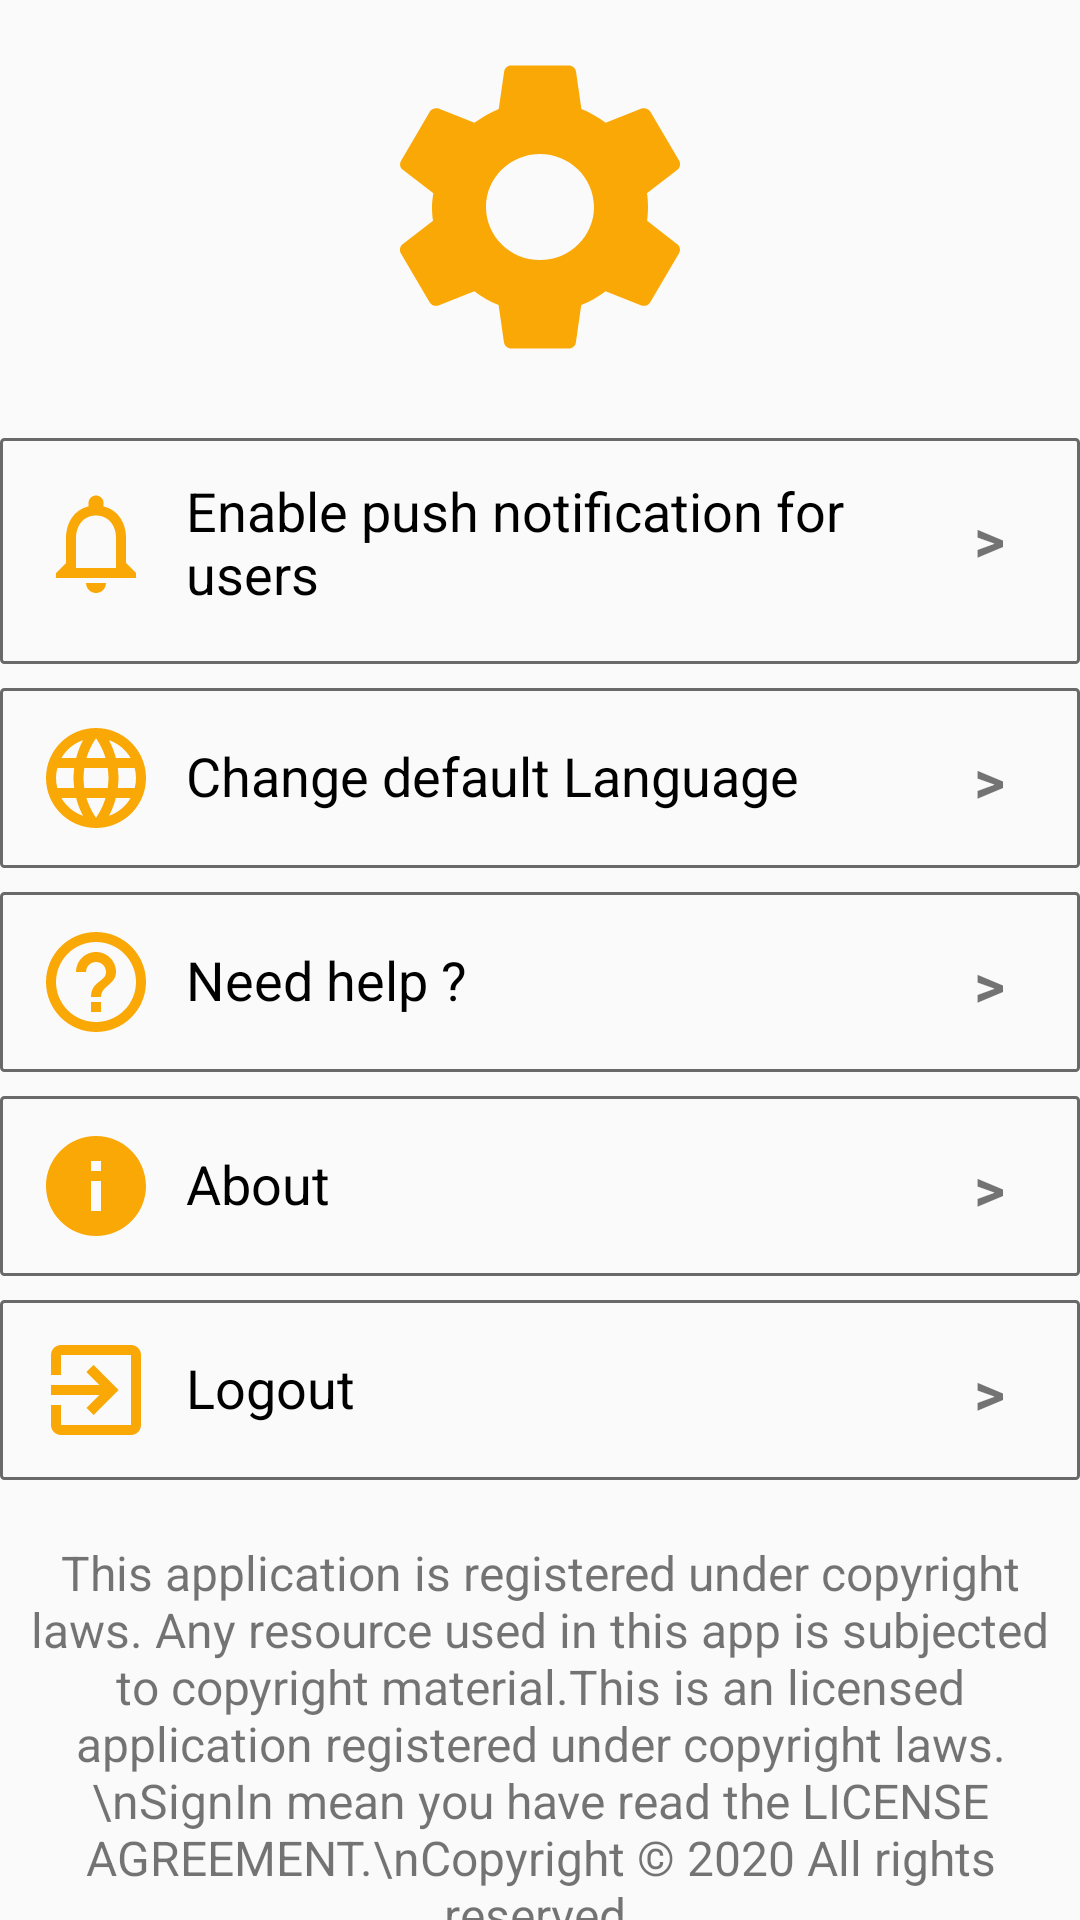

Icon bounding boxes for this 1080 x 1920 phone screenshot, format rect(x1, y1, x2, y2):
exit to app: rect(51, 1345, 141, 1435)
info: rect(46, 1136, 146, 1236)
notifications none: rect(56, 495, 136, 593)
settings: rect(400, 65, 680, 349)
